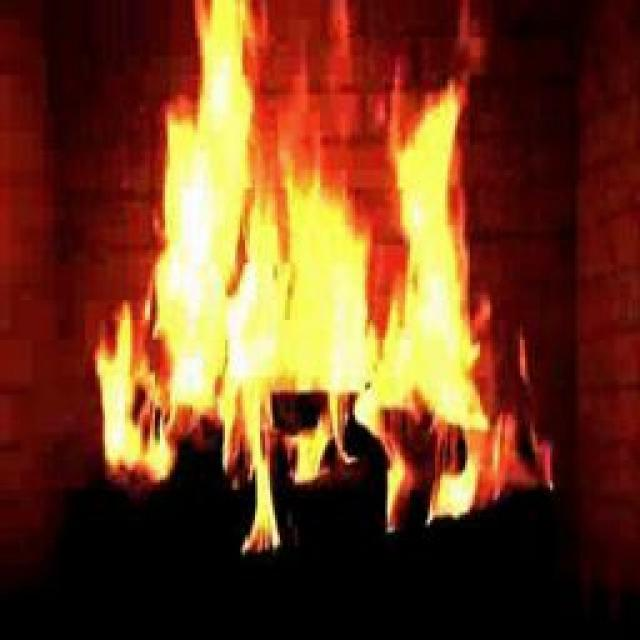Fire: (149, 63, 464, 529)
